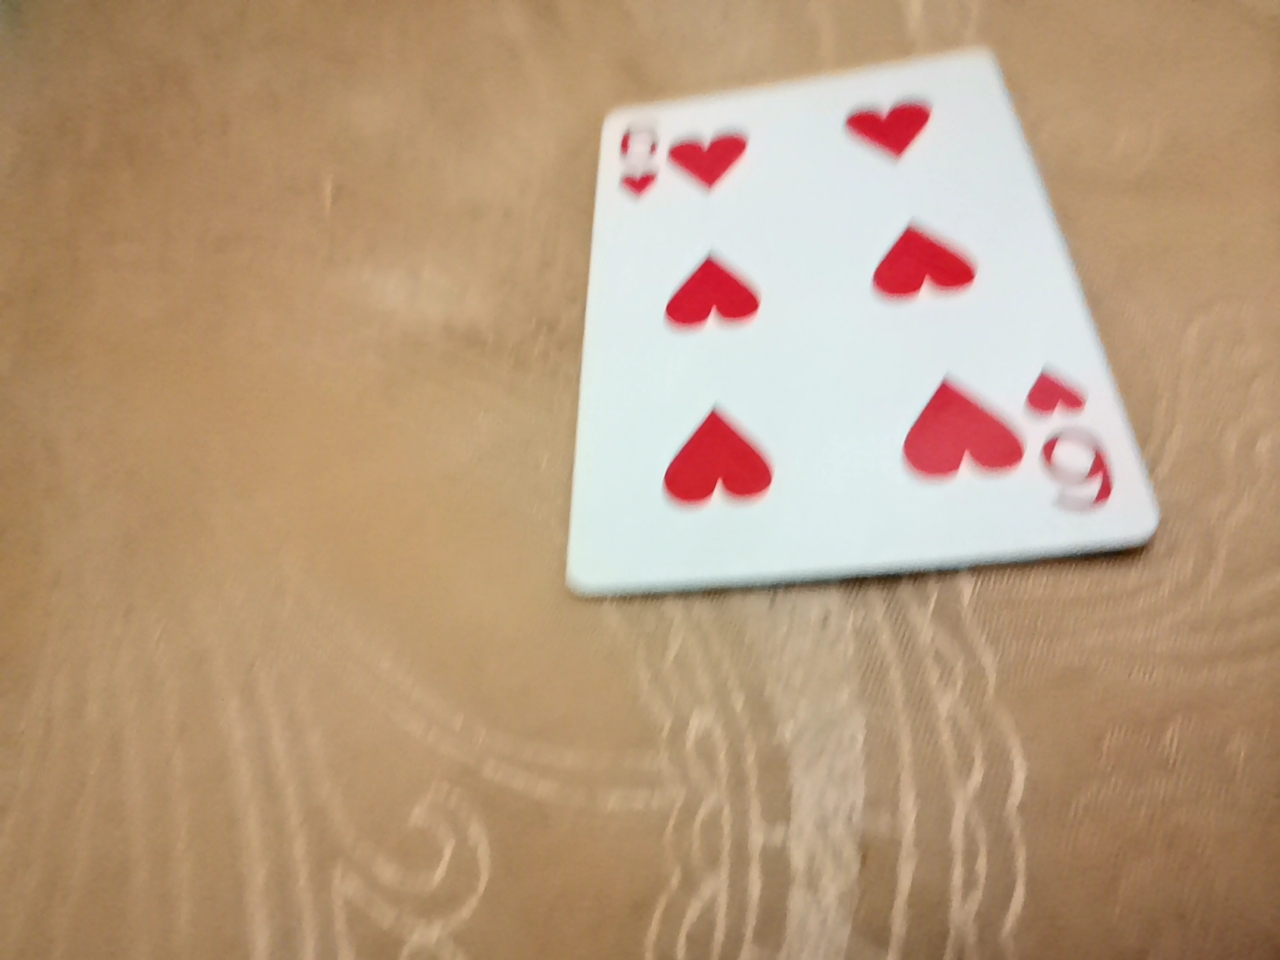hx 6: (567, 84, 1134, 642)
